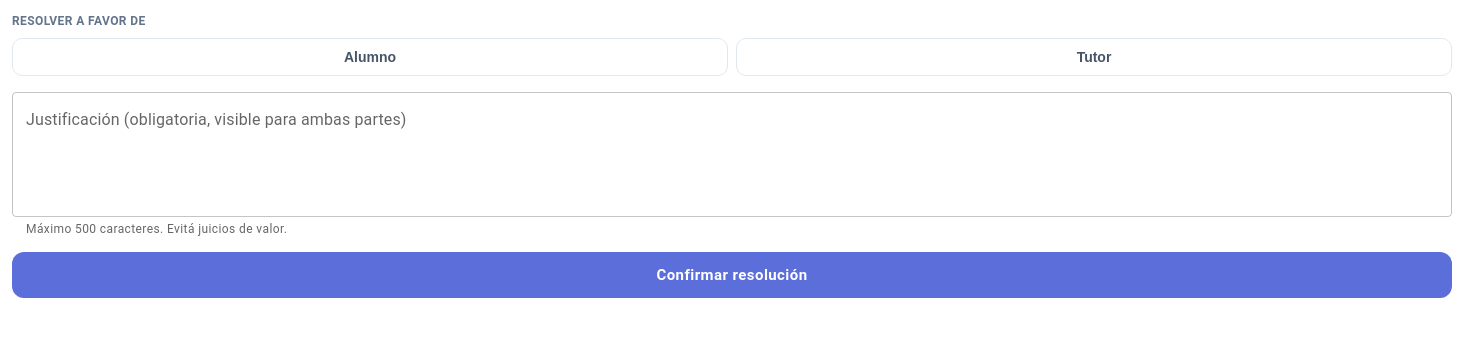
Test: ClaimResolutionForm › no abre la confirmación si falta elegir una parte
Click the button "Confirmar resolución". click: (732, 275)
box: [12,252,1452,298]
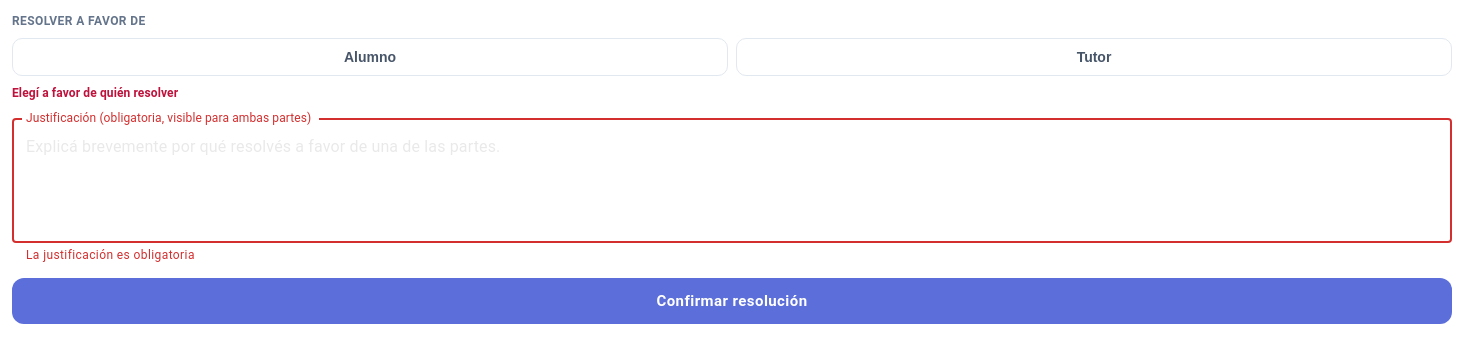
Now the text "Elegí a favor de quién resolver" is shown, box [12,86,178,100]
